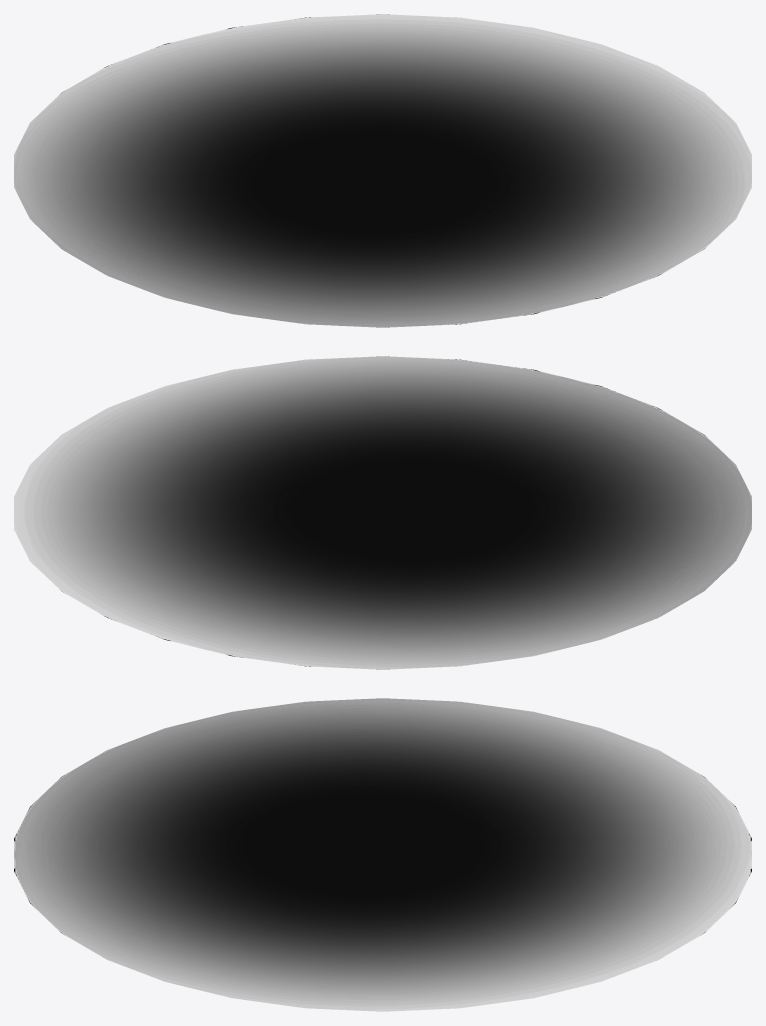
3 renders of one model, top to bottom at view 1: azimuth 30°, elevation 25°; view 2: azimuth 150°, elevation 25°; view 3: azimuth 270°, elevation 25°, orthographic.
Parts seen in each view (by area): view 1: Cylinder003; view 2: Cylinder003; view 3: Cylinder003.
Boxes of the visible parts, left/top/right/bottom form: Cylinder003: left=14, top=14, right=751, bottom=327; Cylinder003: left=14, top=356, right=751, bottom=669; Cylinder003: left=14, top=698, right=751, bottom=1011.
Size of the model in its own units: 333 by 2.13e-14 by 331.
Materials: 1 (1 with a texture image).
